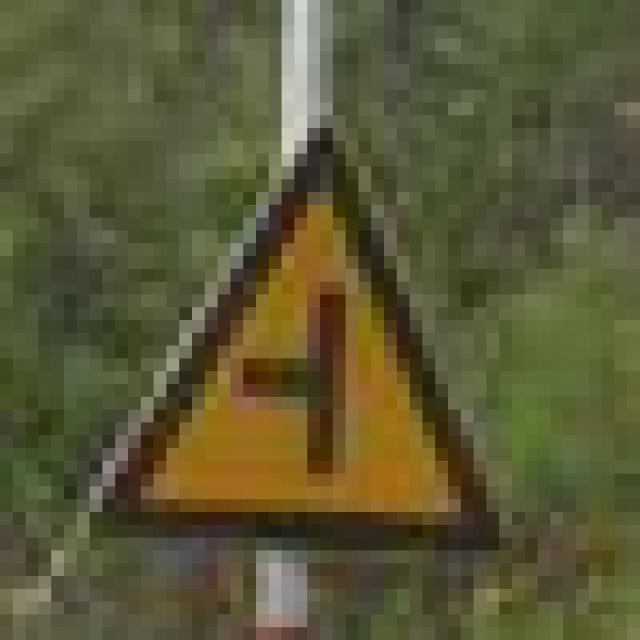side road left: (90, 124, 491, 547)
